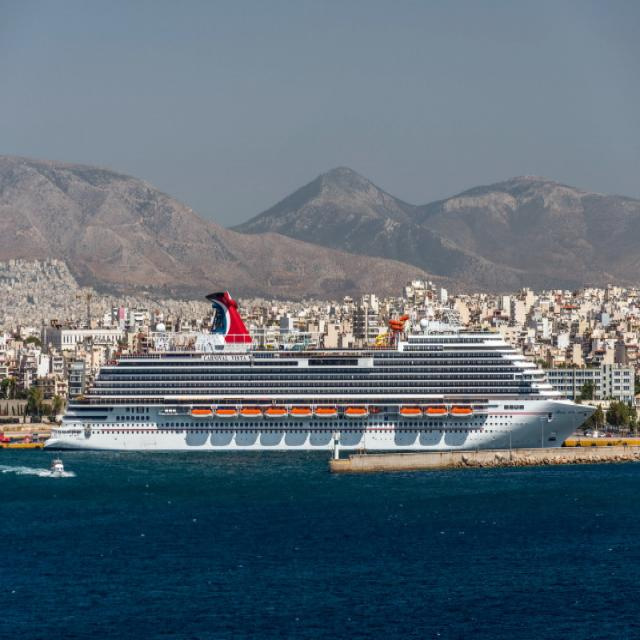cruises: (47, 280, 603, 464)
